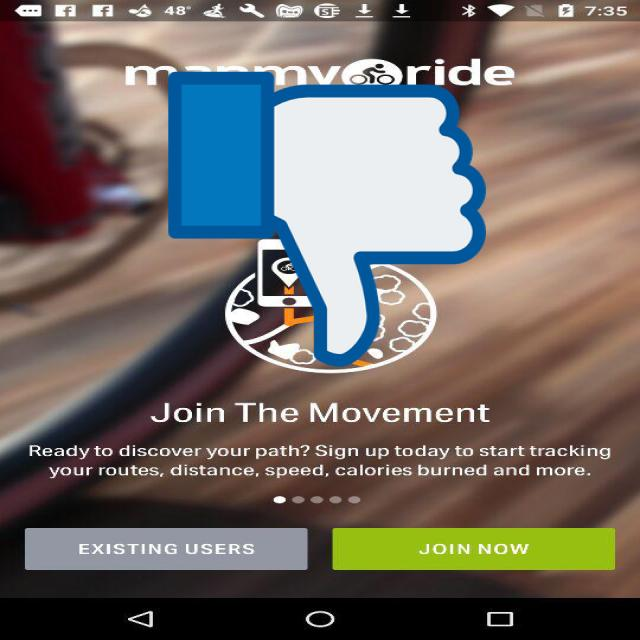obstruction: (168, 65, 486, 374)
